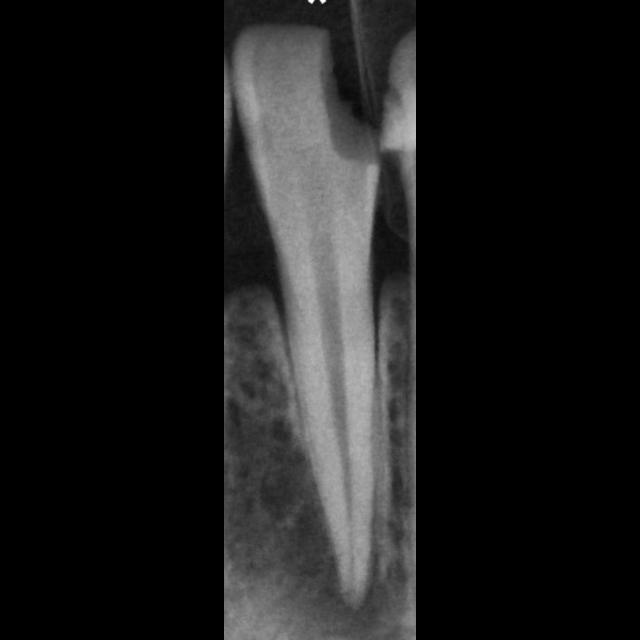tooth: (232, 23, 381, 611)
